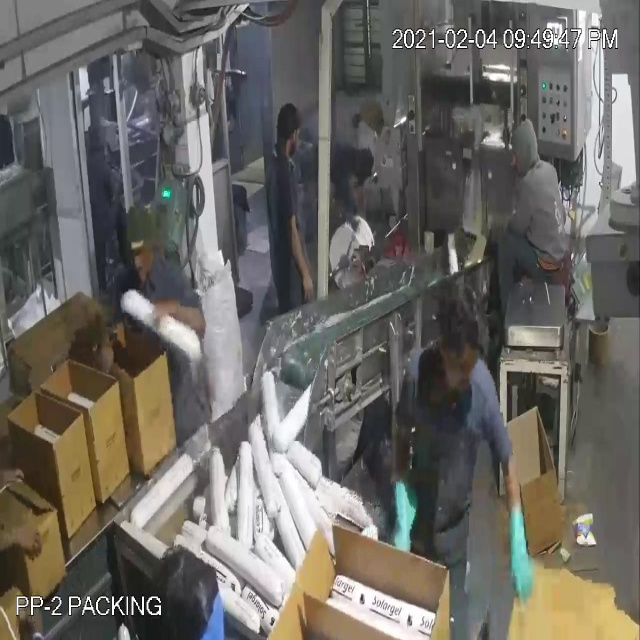Guantes: (502, 483, 538, 611), (385, 460, 421, 573)
Sin_guantes: (147, 283, 210, 364), (282, 204, 319, 313), (4, 503, 50, 574), (1, 458, 33, 504)
